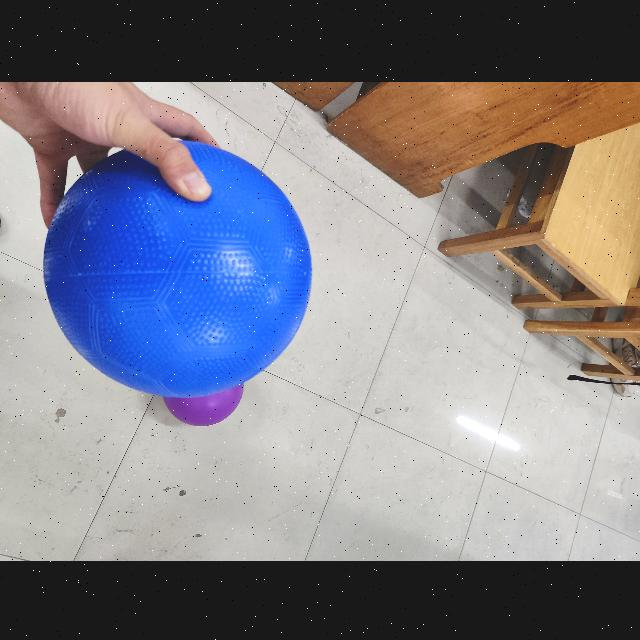B: (42, 123, 314, 397)
P: (162, 352, 246, 426)
